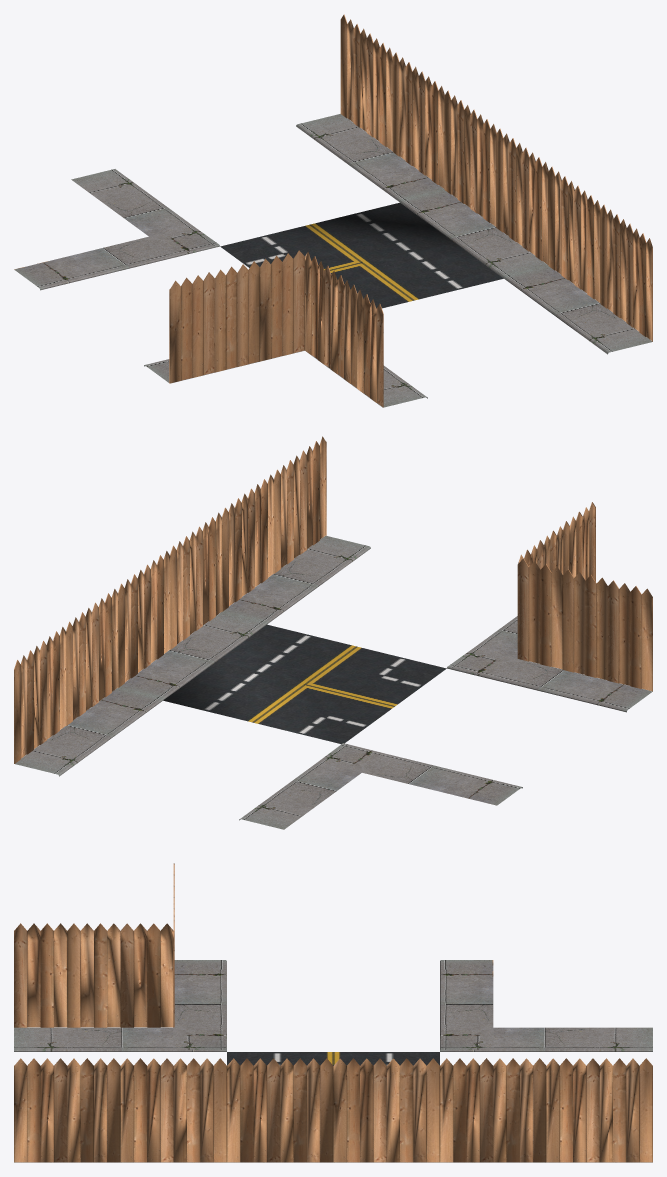
File: road_intersection_fence_0_1_1.obj
The picture shows the model from 3 angles, top to bottom: view 1: azimuth 30°, elevation 25°; view 2: azimuth 150°, elevation 25°; view 3: azimuth 270°, elevation 25°; orthographic projection. The views are drawn at different scales.
Visible parts, largest first — view 1: ROAD_TILE_Plane.016; view 2: ROAD_TILE_Plane.016; view 3: ROAD_TILE_Plane.016.
Boxes of the visible parts, x1,y1,x2,y2 form: ROAD_TILE_Plane.016: (14,14,652,407); ROAD_TILE_Plane.016: (14,436,652,829); ROAD_TILE_Plane.016: (14,863,652,1162).
Size of the model in its own units: 45.01 by 11.01 by 60.01.
